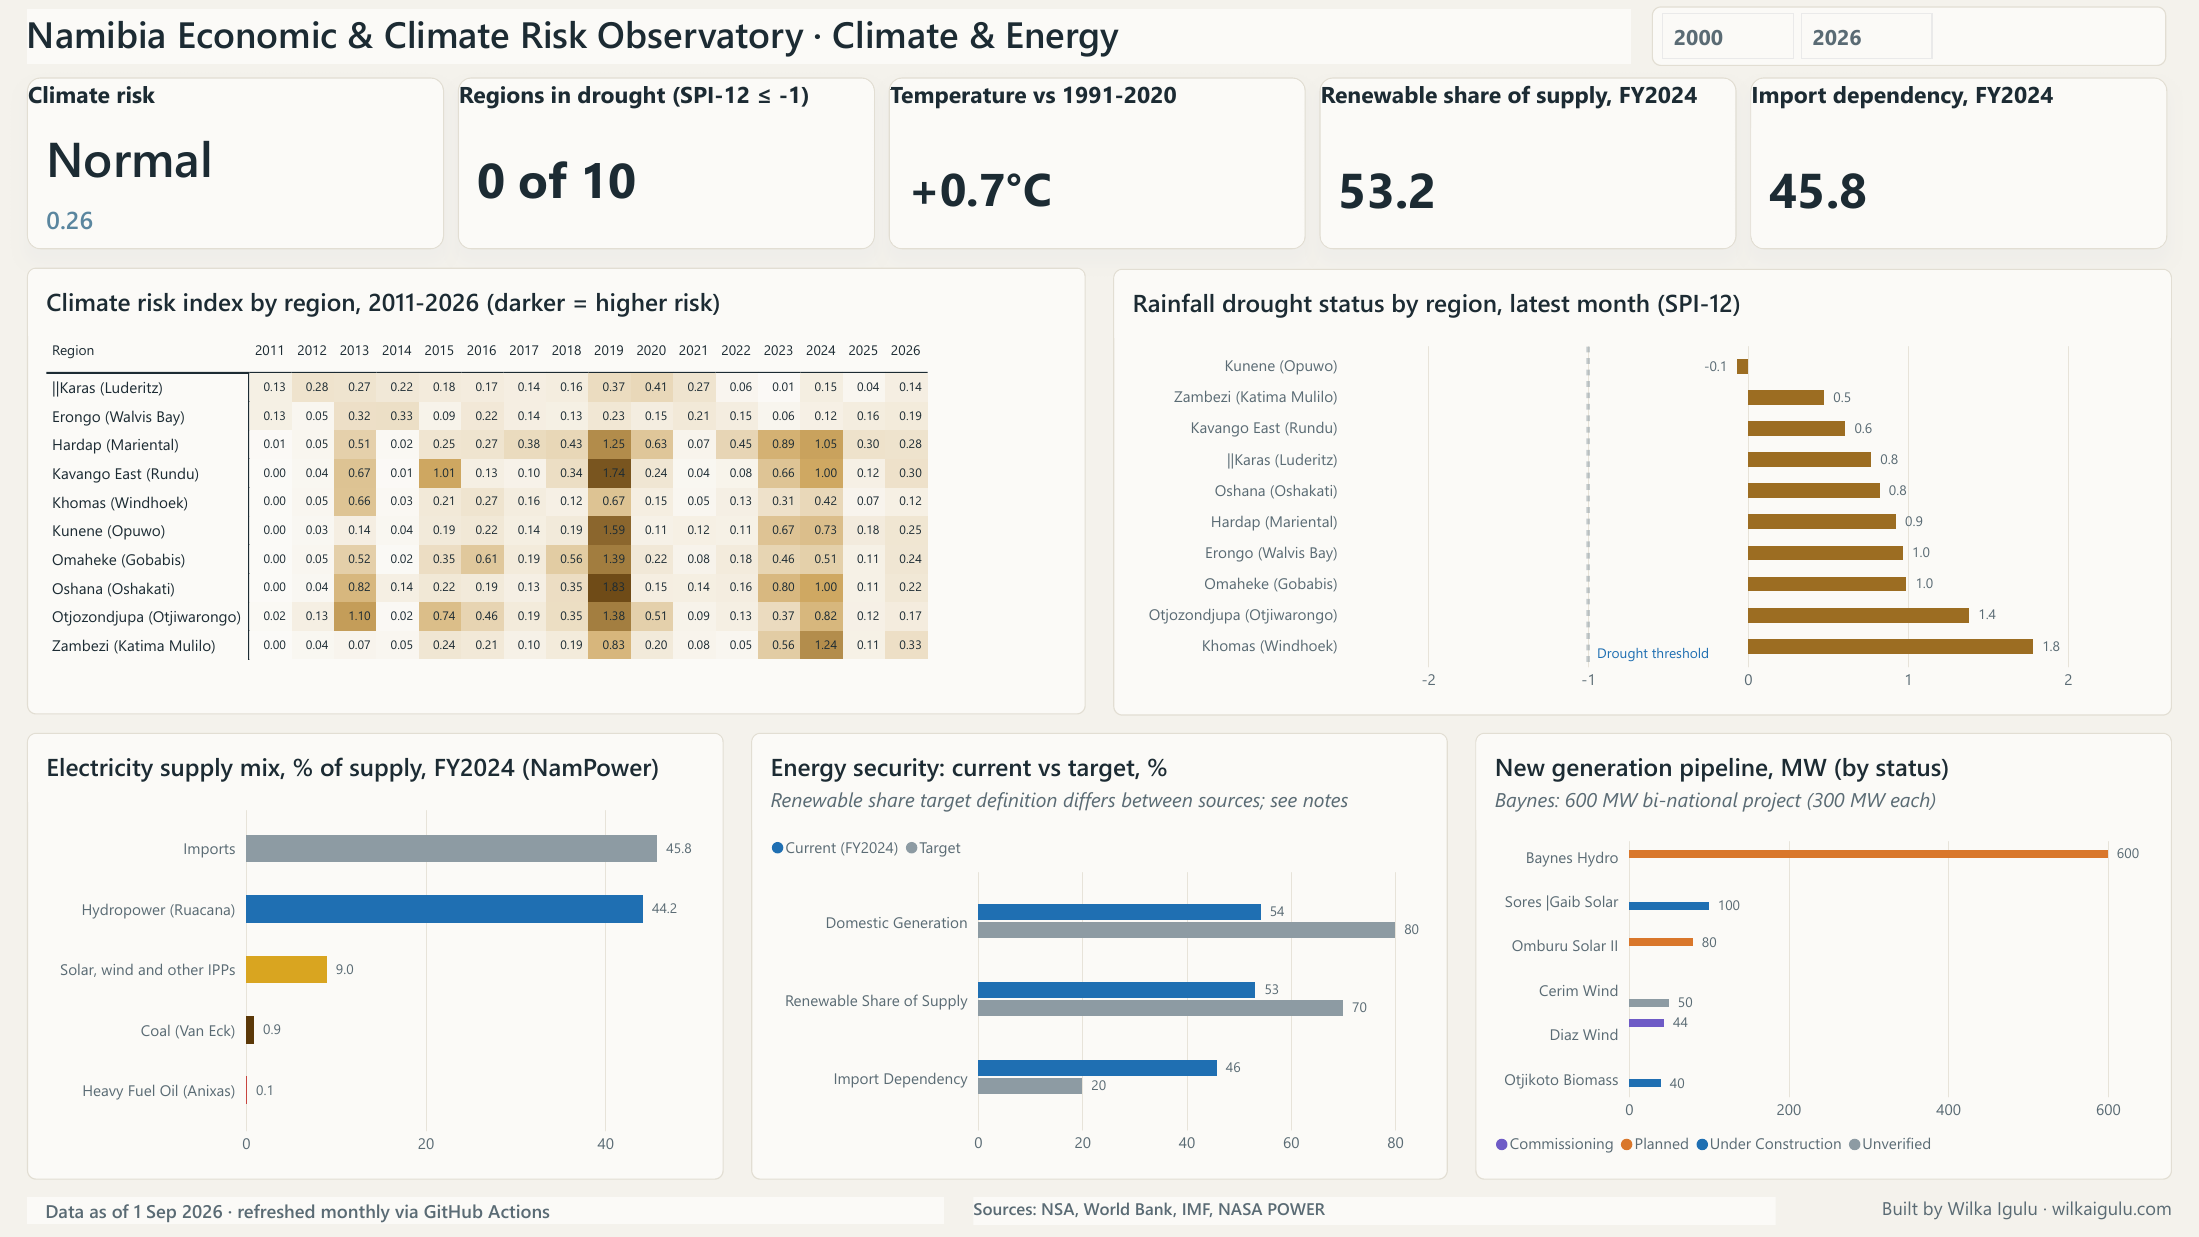

This screenshot's page, from the dashboard's own definition file:
{"tool":"powerbi","page":{"name":"Climate & Energy","canvas":[1920,1080],"ordinal":2},"visuals":[{"type":"cardVisual","title":"Regions in drought (SPI-12 ≤ -1)","fields":{"Data":["Measure Table.Regions In Drought Label"]},"box":[400,68,364,150],"z":0},{"type":"cardVisual","title":"Temperature vs 1991-2020","fields":{"Data":["Measure Table.Latest Value Formatted"]},"box":[776,68,364,150],"z":1000},{"type":"cardVisual","title":"Renewable share of supply, FY2024","fields":{"Data":["Sum(energy_security.Current_Value)"]},"box":[1152,68,364,150],"z":2000},{"type":"textbox","title":"Namibia Economic & Climate Risk Observatory ·  Climate & Energy","box":[24,8,1400,48],"z":3000},{"type":"cardVisual","fields":{"Data":["Measure Table.Data As Of"]},"box":[24,1045,800,24],"z":4000},{"type":"textbox","title":"Built by Wilka Igulu · wilkaigulu.com","box":[1200,1044,696,36],"z":5000},{"type":"textbox","title":"Sources: NSA, World Bank, IMF, NASA POWER ","box":[850,1045,700,24],"z":6000},{"type":"slicer","fields":{"Values":["dim_date.year"]},"box":[1442,6,449,52],"z":7000},{"type":"cardVisual","title":"Import dependency, FY2024","fields":{"Data":["Sum(energy_security.Current_Value)"]},"box":[1528,68,364,150],"z":8000},{"type":"cardVisual","title":"Climate risk","fields":{"Data":["Measure Table.Risk Band"]},"box":[24,68,364,150],"z":9000},{"type":"pivotTable","title":"Climate risk index by region, 2011-2026 (darker = higher risk)","fields":{"Columns":["dim_date.year"],"Rows":["dim_region.name"],"Values":["Measure Table.Climate Risk"]},"box":[24,234,924,390],"z":10000},{"type":"clusteredBarChart","title":"Rainfall drought status by region, latest month (SPI-12)","fields":{"Category":["dim_region.name"],"Y":["Measure Table.SPI 12 Latest"]},"box":[972,235,924,390],"z":11000},{"type":"clusteredBarChart","title":"Electricity supply mix, % of supply, FY2024 (NamPower)","fields":{"Category":["electricity_generation.Source"],"Y":["Sum(electricity_generation.Percentage)"]},"box":[24,640,608,390],"z":12000},{"type":"clusteredBarChart","title":"New generation pipeline, MW (by status)","fields":{"Category":["generation_pipeline.Project"],"Series":["generation_pipeline.Status"],"Y":["Sum(generation_pipeline.Capacity_MW)"]},"box":[1288,640,608,390],"z":13000},{"type":"clusteredBarChart","title":"Energy security: current vs target, %","fields":{"Category":["energy_security.Metric"],"Y":["Sum(energy_security.Current_Value)","Sum(energy_security.Target_Value)"]},"box":[656,640,608,390],"z":14000}]}

Visuals, with their boxes in screenshot pixels (x1, y1, x2, y2), scaled from the page's 1920x1080 canvas onto the 2199x1237 screenshot:
"Regions in drought (SPI-12 ≤ -1)" cardVisual: bbox(458, 78, 875, 250)
"Temperature vs 1991-2020" cardVisual: bbox(889, 78, 1306, 250)
"Renewable share of supply, FY2024" cardVisual: bbox(1319, 78, 1736, 250)
"Namibia Economic & Climate Risk Observatory ·  Climate & Energy" textbox: bbox(27, 9, 1631, 64)
cardVisual - Measure Table.Data As Of: bbox(27, 1197, 944, 1224)
"Built by Wilka Igulu · wilkaigulu.com" textbox: bbox(1374, 1196, 2172, 1236)
"Sources: NSA, World Bank, IMF, NASA POWER " textbox: bbox(974, 1197, 1775, 1224)
slicer - dim_date.year: bbox(1652, 7, 2166, 66)
"Import dependency, FY2024" cardVisual: bbox(1750, 78, 2167, 250)
"Climate risk" cardVisual: bbox(27, 78, 444, 250)
"Climate risk index by region, 2011-2026 (darker = higher risk)" pivotTable: bbox(27, 268, 1086, 715)
"Rainfall drought status by region, latest month (SPI-12)" clusteredBarChart: bbox(1113, 269, 2172, 716)
"Electricity supply mix, % of supply, FY2024 (NamPower)" clusteredBarChart: bbox(27, 733, 724, 1180)
"New generation pipeline, MW (by status)" clusteredBarChart: bbox(1475, 733, 2172, 1180)
"Energy security: current vs target, %" clusteredBarChart: bbox(751, 733, 1448, 1180)
